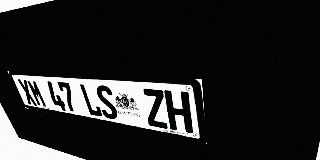4: (44, 81, 67, 111)
7: (56, 82, 80, 113)
H: (164, 90, 193, 133)
L: (78, 84, 103, 118)
M: (26, 80, 48, 108)
S: (94, 85, 119, 120)
X: (17, 79, 38, 106)
Z: (141, 88, 169, 129)
